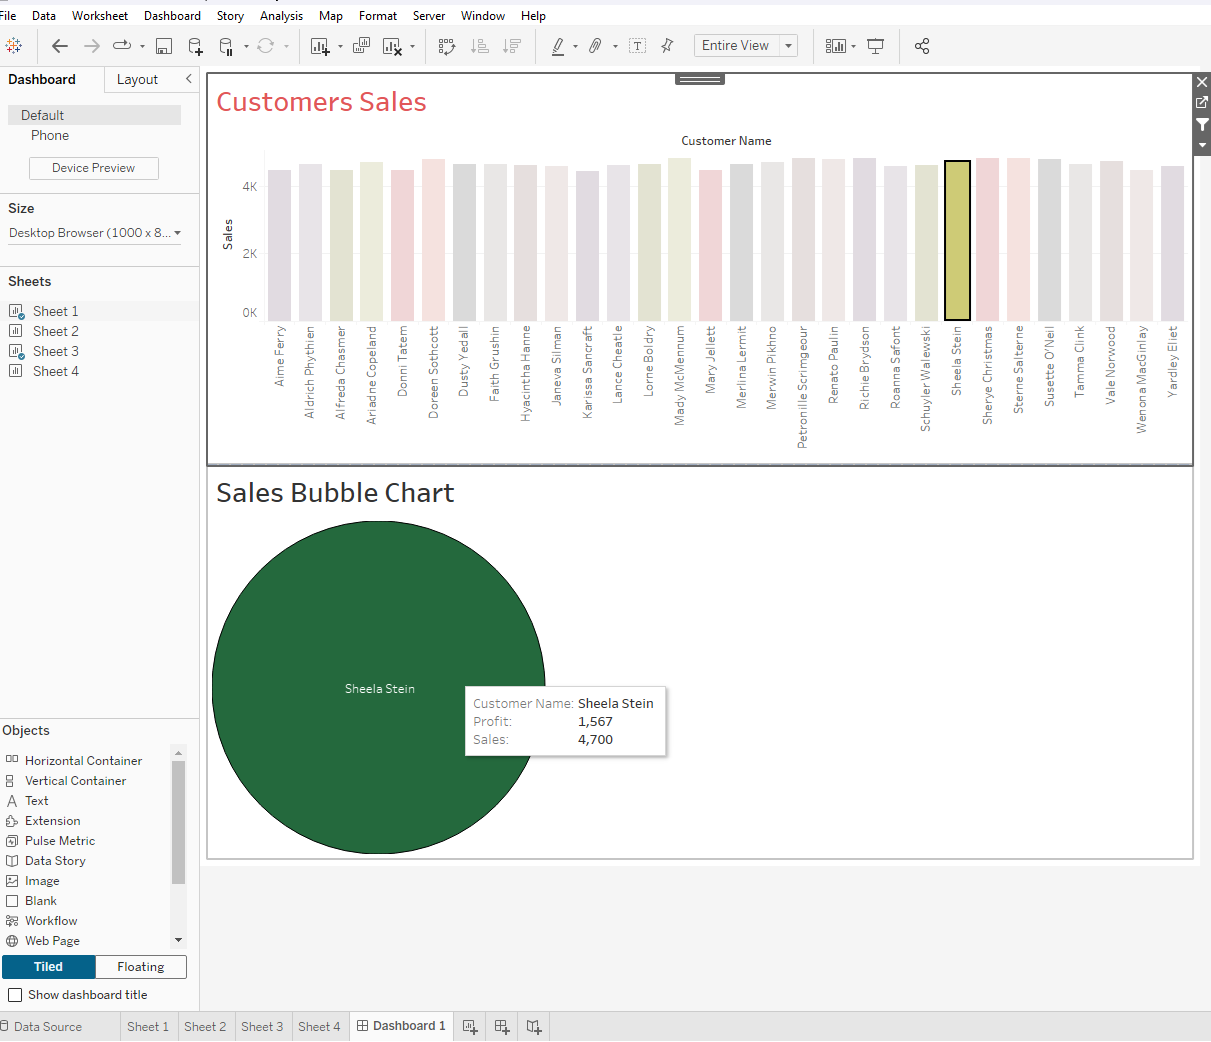

This screenshot's page, from the dashboard's own definition file:
{"tool":"tableau","page":{"name":"Dashboard 1","canvas":[1000,800],"ordinal":0},"visuals":[{"type":"worksheet","title":"Sheet 1","mark":"Automatic","rows":["Sales"],"cols":["Customer Name"],"box":[8,8,984,391.2]},{"type":"worksheet","title":"Sheet 3","mark":"Circle","box":[8,399.2,984,392.8]}]}

Visuals, with their boxes on the page's 1000x800 design canvas (x1, y1, x2, y2). These are canvas units, not pixel positions in the 1211x1042 screenshot, which may show the page scaled, cropped or inside an application window:
"Sheet 1" worksheet: (8,8,992,399)
"Sheet 3" worksheet (Circle marks): (8,399,992,792)
